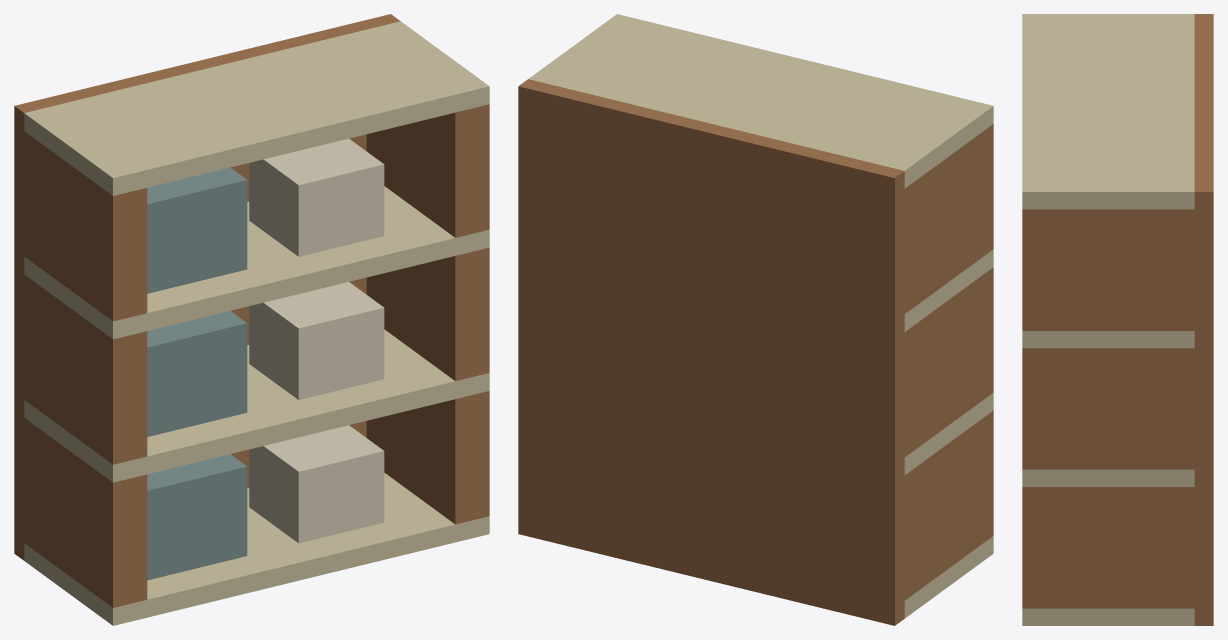
Rendered from robotics-13.glb.
The picture shows the model from 3 angles, left to right: view 1: azimuth 30°, elevation 25°; view 2: azimuth 150°, elevation 25°; view 3: azimuth 270°, elevation 25°; orthographic projection. The views are drawn at different scales.
Parts seen in each view (by area): view 1: Parts cabinet; view 2: Parts cabinet; view 3: Parts cabinet.
Part boxes in pixels (x1=…): Parts cabinet: x1=14, y1=14, x2=489, y2=625; Parts cabinet: x1=518, y1=14, x2=993, y2=625; Parts cabinet: x1=1022, y1=14, x2=1213, y2=625.
Size of the model in its own units: 1.76 by 2 by 0.8.
